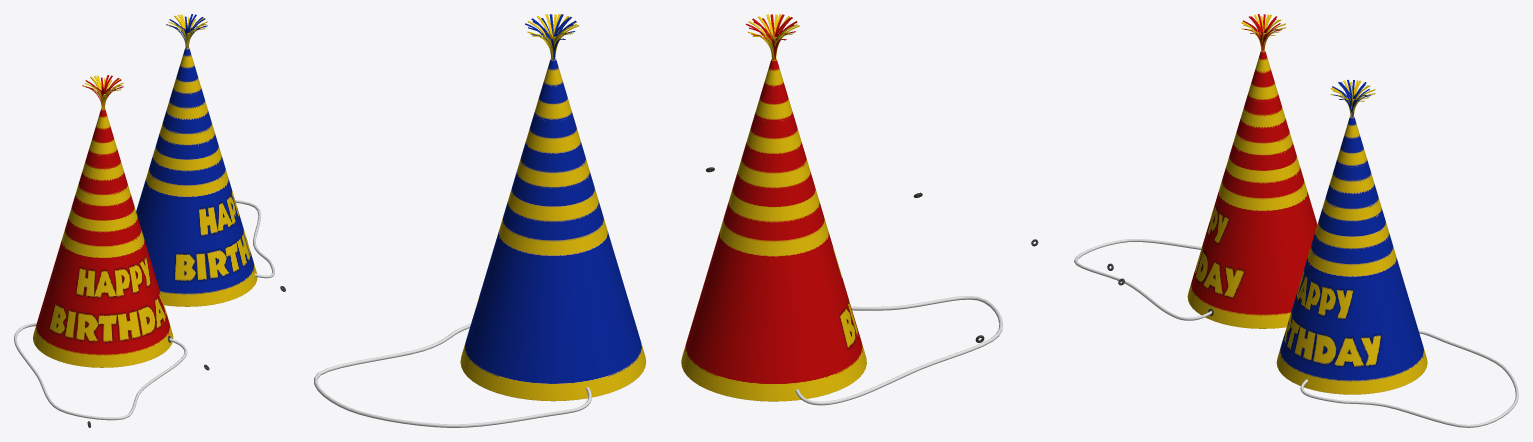
File: cgaxis_models_13_01_fbx.fbx
3 renders of one model, left to right at view 1: azimuth 30°, elevation 25°; view 2: azimuth 150°, elevation 25°; view 3: azimuth 270°, elevation 25°, orthographic. The views are drawn at different scales.
Parts seen in each view (by area): view 1: cgaxis_models_13_01_02, cgaxis_models_13_01_01, cgaxis_models_13_01_03; view 2: cgaxis_models_13_01_01, cgaxis_models_13_01_02, cgaxis_models_13_01_03; view 3: cgaxis_models_13_01_01, cgaxis_models_13_01_02, cgaxis_models_13_01_03.
Part boxes in pixels (x1,y1,x2,y2): cgaxis_models_13_01_02: (33,75,173,367); cgaxis_models_13_01_01: (136,14,257,306); cgaxis_models_13_01_03: (14,200,274,420); cgaxis_models_13_01_01: (460,14,646,401); cgaxis_models_13_01_02: (681,14,866,401); cgaxis_models_13_01_03: (314,296,1002,427); cgaxis_models_13_01_01: (1276,79,1427,394); cgaxis_models_13_01_02: (1187,14,1317,328); cgaxis_models_13_01_03: (1074,239,1518,427).
Bounding box in the file's own units: 11.57 × 8.5 × 12.72.
Materials: 4 (2 with a texture image).
